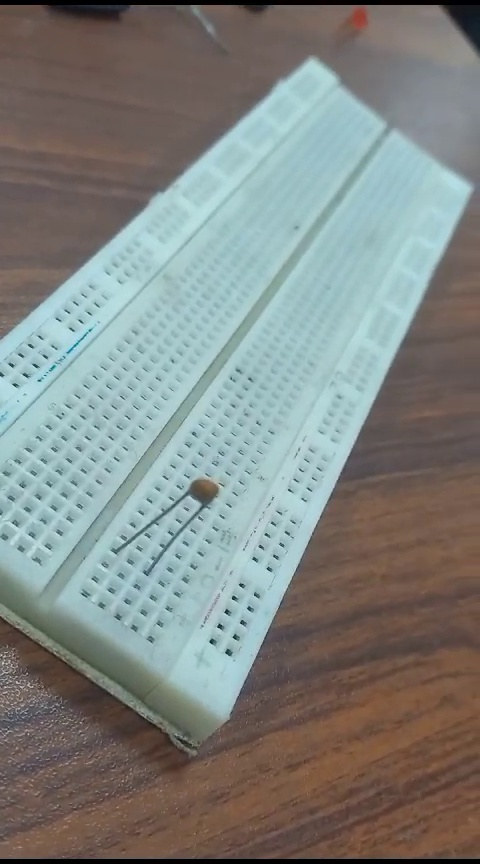ceramic capacitor: (114, 464, 223, 576)
